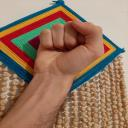Fist: (29, 18, 109, 78)
